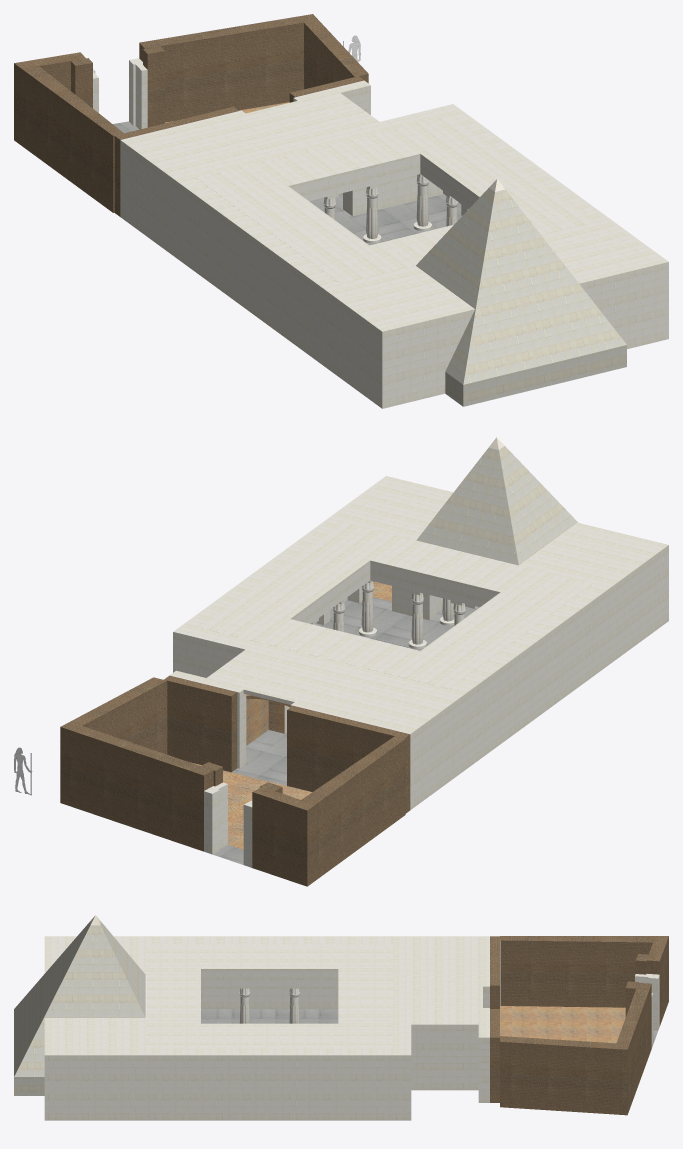
Rendered from Pay_Raia.obj.
3 views of the same model, one above another, from view 1: azimuth 30°, elevation 25°; view 2: azimuth 150°, elevation 25°; view 3: azimuth 270°, elevation 25° (orthographic). The views are drawn at different scales.
Parts seen in each view (by area): view 1: Mesh32 Model, Mesh26 ROOF1 Model, Mesh25 architrave1 Model, Mesh6 Component_8_3 Model, Mesh20 Component_8_10 Model; view 2: Mesh32 Model, Mesh26 ROOF1 Model, Mesh25 architrave1 Model; view 3: Mesh32 Model, Mesh26 ROOF1 Model, Mesh25 architrave1 Model, Mesh4 Component_8_2 Model, Mesh22 Component_8_11 Model.
Boxes of the visible parts, x1,y1,x2,y2 form: Mesh32 Model: [14, 14, 668, 408]; Mesh26 ROOF1 Model: [195, 116, 590, 283]; Mesh25 architrave1 Model: [298, 163, 474, 208]; Mesh6 Component_8_3 Model: [366, 184, 381, 238]; Mesh20 Component_8_10 Model: [416, 174, 428, 226]; Mesh32 Model: [60, 437, 668, 886]; Mesh26 ROOF1 Model: [201, 523, 591, 688]; Mesh25 architrave1 Model: [300, 569, 490, 623]; Mesh32 Model: [14, 915, 668, 1120]; Mesh26 ROOF1 Model: [146, 943, 393, 1047]; Mesh25 architrave1 Model: [201, 976, 338, 986]; Mesh4 Component_8_2 Model: [239, 986, 250, 1023]; Mesh22 Component_8_11 Model: [289, 986, 299, 1023].
Size of the model in its own units: 11.8 by 6.15 by 24.46.
